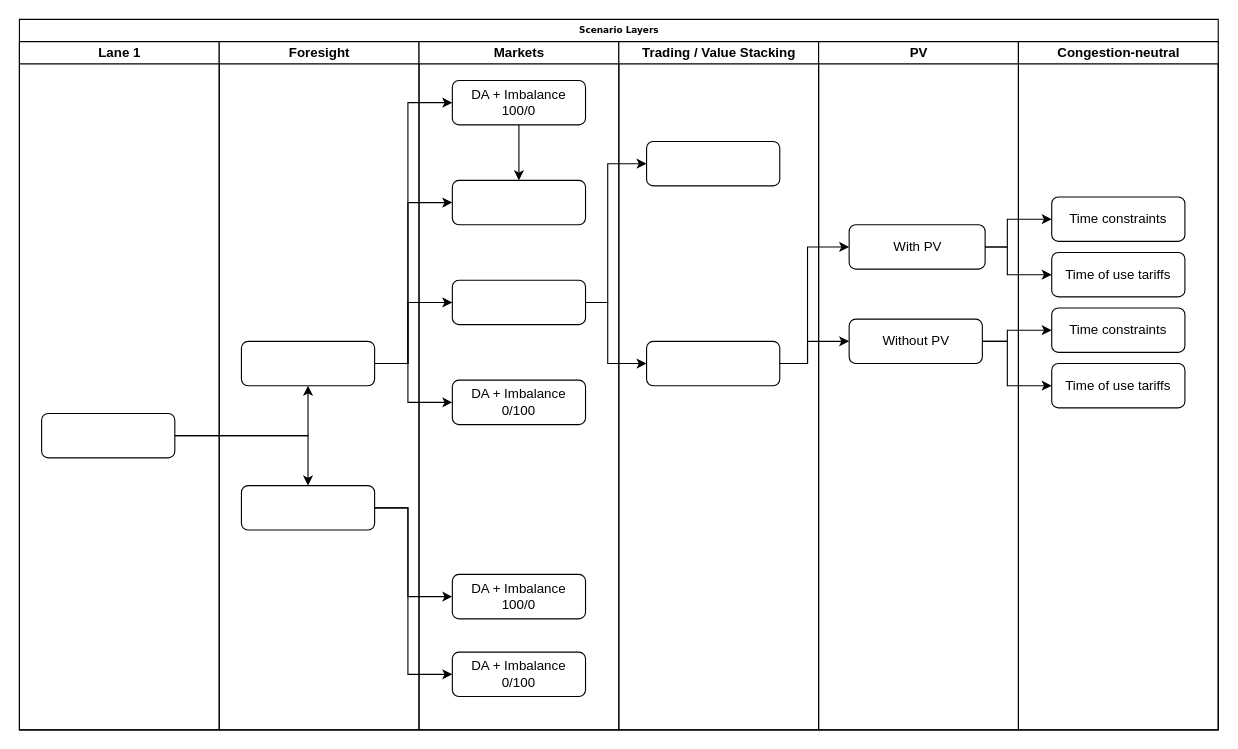
The diagram is 1238 pixels wide and 749 high, and some of its shapes have lost their labels. Here are the shapes that lost their labels. From the top down, the centre of each, then its label:
[712,163]: Demand = 0
[518,202]: DA + Imbalance 90/10
[518,302]: DA + Imbalance .../...
[307,363]: Perfect foresight
[712,363]: Demand = Load
[108,435]: Battery behavior
[307,507]: Rolling horizon
